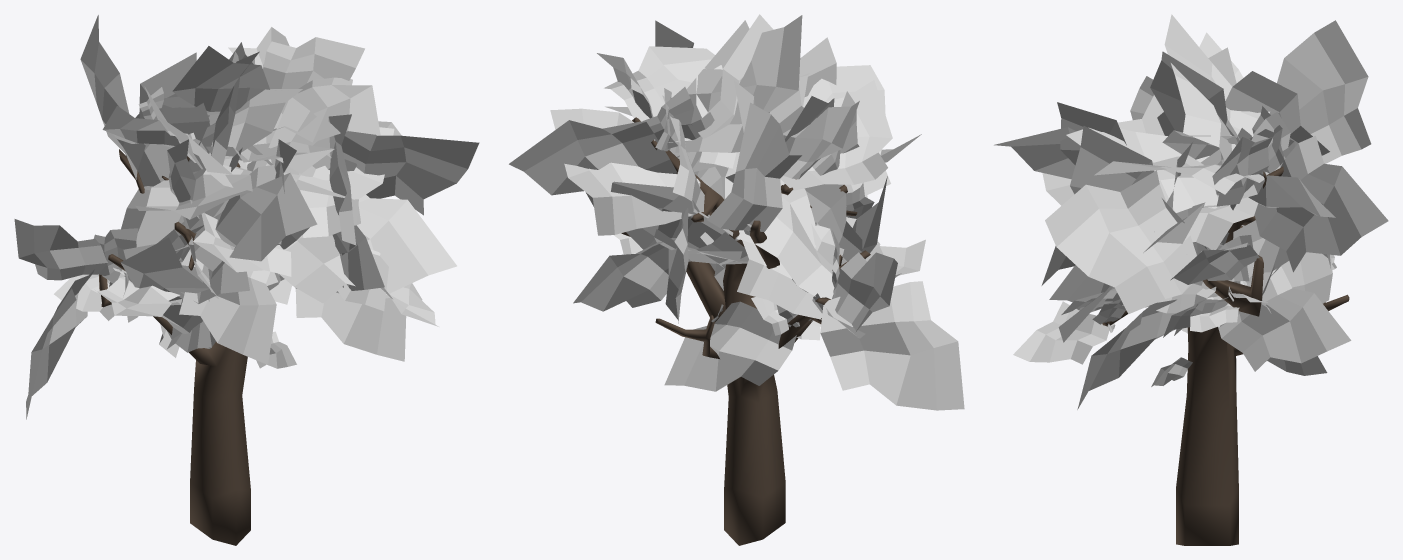
Rendered from TREE2.fbx.
3 views of the same model, side by side, from view 1: azimuth 30°, elevation 25°; view 2: azimuth 150°, elevation 25°; view 3: azimuth 270°, elevation 25° (orthographic).
Parts seen in each view (by area): view 1: Cube.007, Cube.007|Plane.002|Dupli|55, Cube.007|Plane.002|Dupli|23, Cube.007|Plane.002|Dupli|74, Cube.007|Plane.002|Dupli|75, Cube.007|Plane.002|Dupli|17, Cube.007|Plane.002|Dupli|68, Cube.007|Plane.002|Dupli|70, Cube.007|Plane.002|Dupli|63, Cube.007|Plane.002|Dupli|41, Cube.007|Plane.002|Dupli|90, Cube.007|Plane.002|Dupli|85 (+26 smaller); view 2: Cube.007, Cube.007|Plane.002|Dupli|46, Cube.007|Plane.002|Dupli|67, Cube.007|Plane.002|Dupli|40, Cube.007|Plane.002|Dupli|68, Cube.007|Plane.002|Dupli|92, Cube.007|Plane.002|Dupli|71, Cube.007|Plane.002|Dupli|44, Cube.007|Plane.002|Dupli|9, Cube.007|Plane.002|Dupli|82, Cube.007|Plane.002|Dupli|70, Cube.007|Plane.002|Dupli|41 (+23 smaller); view 3: Cube.007, Cube.007|Plane.002|Dupli|23, Cube.007|Plane.002|Dupli|67, Cube.007|Plane.002|Dupli|92, Cube.007|Plane.002|Dupli|9, Cube.007|Plane.002|Dupli|68, Cube.007|Plane.002|Dupli|17, Cube.007|Plane.002|Dupli|64, Cube.007|Plane.002|Dupli|31, Cube.007|Plane.002|Dupli|30, Cube.007|Plane.002|Dupli|2, Cube.007|Plane.002|Dupli|90 (+27 smaller).
Boxes of the visible parts, box(x1,y1,x2,y2) form: Cube.007: box(99, 149, 250, 545); Cube.007|Plane.002|Dupli|55: box(279, 194, 456, 303); Cube.007|Plane.002|Dupli|23: box(341, 131, 479, 215); Cube.007|Plane.002|Dupli|74: box(193, 164, 317, 278); Cube.007|Plane.002|Dupli|75: box(179, 249, 276, 364); Cube.007|Plane.002|Dupli|17: box(295, 288, 406, 361); Cube.007|Plane.002|Dupli|68: box(163, 46, 281, 115); Cube.007|Plane.002|Dupli|70: box(273, 77, 380, 142); Cube.007|Plane.002|Dupli|63: box(263, 37, 364, 88); Cube.007|Plane.002|Dupli|41: box(14, 219, 107, 280); Cube.007|Plane.002|Dupli|90: box(125, 52, 209, 186); Cube.007|Plane.002|Dupli|85: box(120, 237, 215, 348); Cube.007: box(621, 117, 870, 545); Cube.007|Plane.002|Dupli|46: box(820, 281, 964, 410); Cube.007|Plane.002|Dupli|67: box(509, 120, 677, 206); Cube.007|Plane.002|Dupli|40: box(664, 301, 796, 391); Cube.007|Plane.002|Dupli|68: box(675, 15, 802, 152); Cube.007|Plane.002|Dupli|92: box(707, 102, 801, 231); Cube.007|Plane.002|Dupli|71: box(550, 108, 700, 235); Cube.007|Plane.002|Dupli|44: box(737, 183, 834, 299); Cube.007|Plane.002|Dupli|9: box(573, 242, 668, 311); Cube.007|Plane.002|Dupli|82: box(780, 80, 892, 190); Cube.007|Plane.002|Dupli|70: box(604, 46, 722, 142); Cube.007|Plane.002|Dupli|41: box(832, 252, 897, 331); Cube.007: box(1102, 166, 1349, 545); Cube.007|Plane.002|Dupli|23: box(1045, 170, 1196, 314); Cube.007|Plane.002|Dupli|67: box(1254, 135, 1388, 272); Cube.007|Plane.002|Dupli|92: box(1277, 20, 1371, 163); Cube.007|Plane.002|Dupli|9: box(1218, 266, 1351, 371); Cube.007|Plane.002|Dupli|68: box(1164, 14, 1269, 160); Cube.007|Plane.002|Dupli|17: box(1077, 299, 1176, 409); Cube.007|Plane.002|Dupli|64: box(1066, 127, 1218, 212); Cube.007|Plane.002|Dupli|31: box(1070, 126, 1184, 223); Cube.007|Plane.002|Dupli|30: box(1013, 301, 1109, 364); Cube.007|Plane.002|Dupli|2: box(1150, 51, 1239, 155); Cube.007|Plane.002|Dupli|90: box(1225, 71, 1329, 155).
Size of the model in its own units: 1964 by 2514 by 1748.
